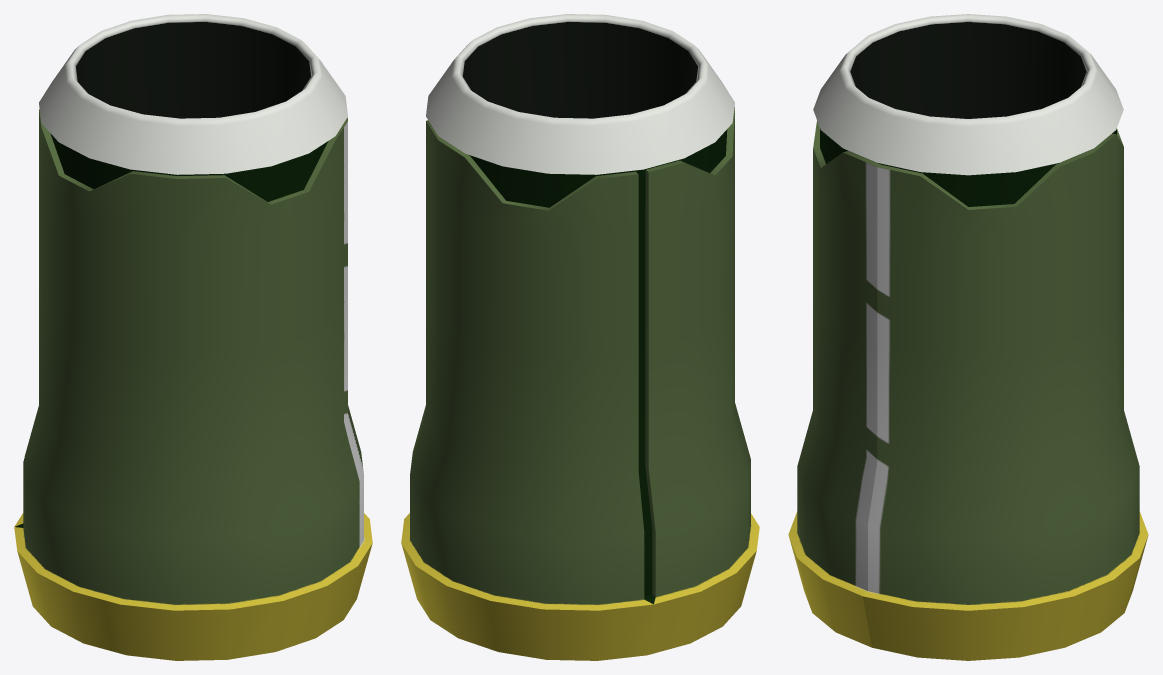
File: trash can.gltf
The picture shows the model from 3 angles, left to right: view 1: azimuth 30°, elevation 25°; view 2: azimuth 150°, elevation 25°; view 3: azimuth 270°, elevation 25°; orthographic projection.
Parts seen in each view (by area): view 1: Rubbish_Bin; view 2: Rubbish_Bin; view 3: Rubbish_Bin.
Boxes of the visible parts, x1,y1,x2,y2 form: Rubbish_Bin: (14,14,372,660); Rubbish_Bin: (401,14,759,660); Rubbish_Bin: (788,14,1148,660).
Bounding box in the file's own units: 0.042 × 0.0675 × 0.042.
Materials: 1 (1 with a texture image).
